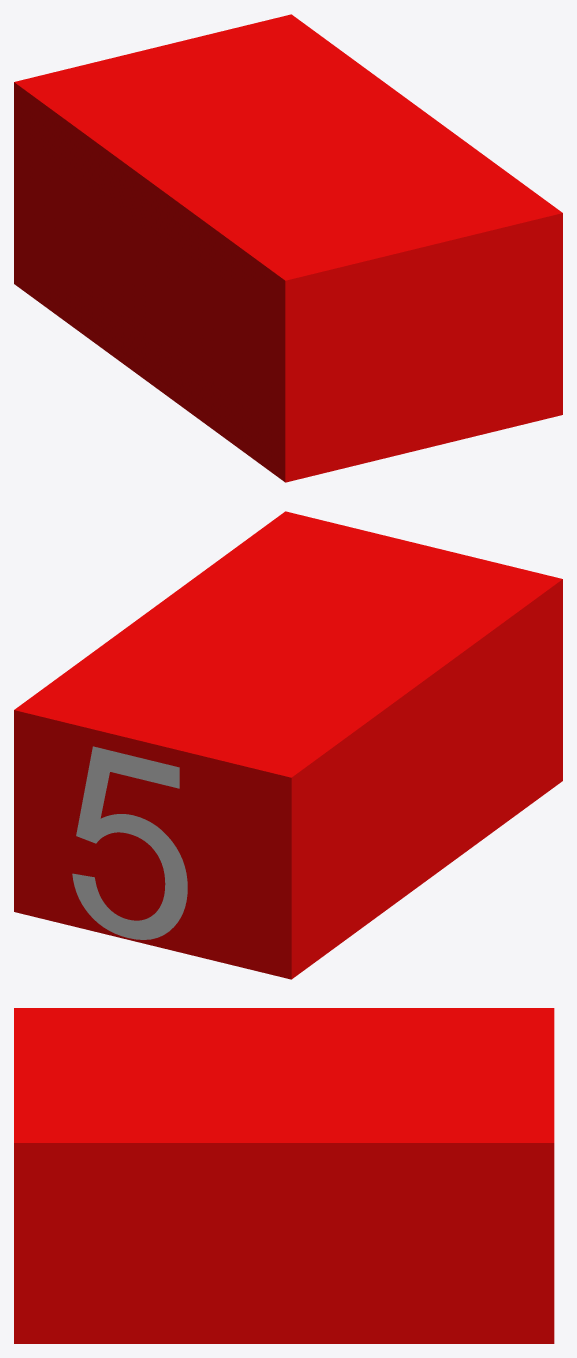
File: car05.glb
3 views of the same model, one above another, from view 1: azimuth 30°, elevation 25°; view 2: azimuth 150°, elevation 25°; view 3: azimuth 270°, elevation 25° (orthographic).
Parts seen in each view (by area): view 1: Box001; view 2: Box001, 5; view 3: Box001.
Boxes of the visible parts, bbox=[...] form: Box001: bbox=[14, 14, 562, 482]; Box001: bbox=[14, 511, 562, 979]; 5: bbox=[72, 746, 187, 939]; Box001: bbox=[14, 1008, 554, 1343].
Bounding box in the file's own units: 17.4 × 12.1 × 29.97.
